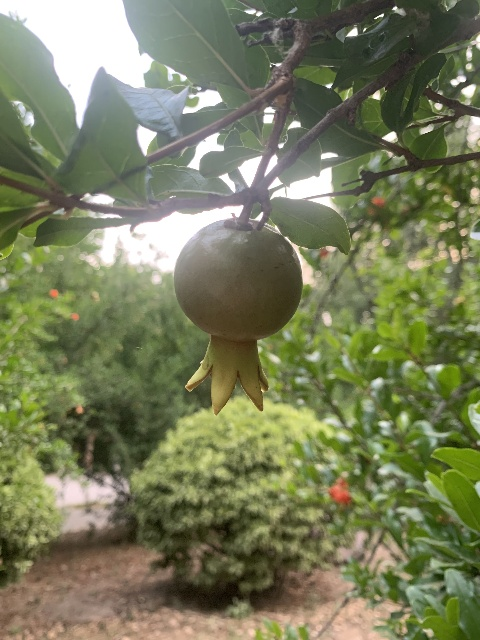mid-growth: (171, 218, 304, 415)
